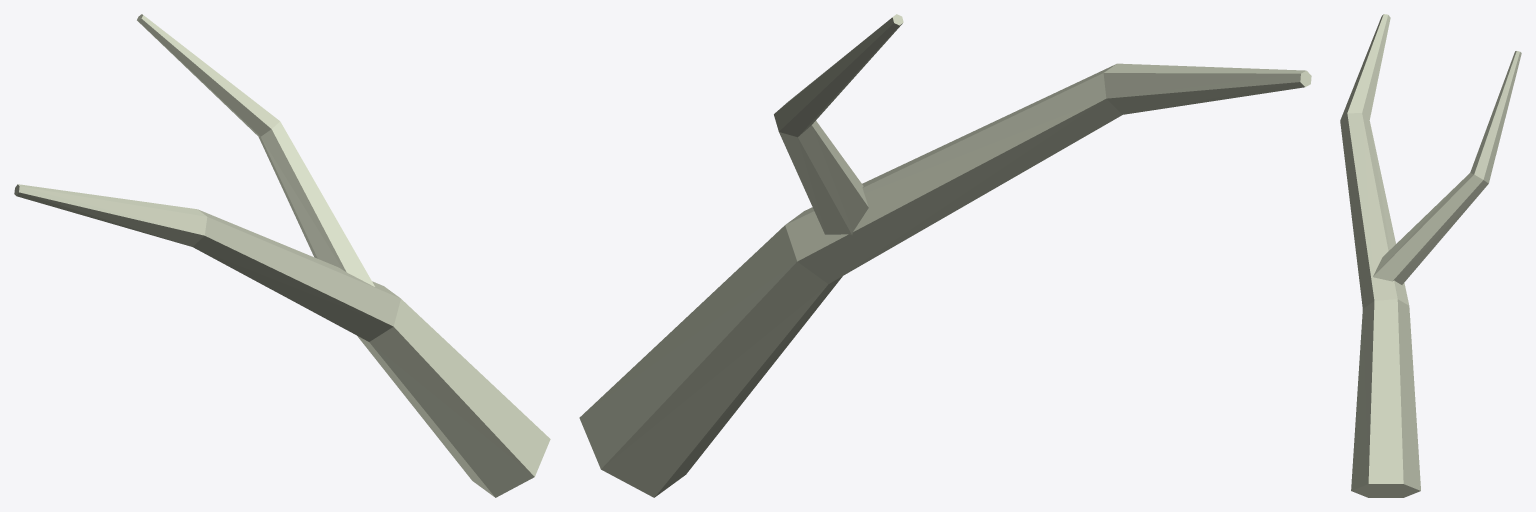
File: N18_Birch_Branch.fbx
3 views of the same model, side by side, from view 1: azimuth 30°, elevation 25°; view 2: azimuth 150°, elevation 25°; view 3: azimuth 270°, elevation 25° (orthographic). The views are drawn at different scales.
Visible parts, largest first — view 1: N18_Birch_Branch; view 2: N18_Birch_Branch; view 3: N18_Birch_Branch.
Boxes of the visible parts, box(x1,y1,x2,y2) form: N18_Birch_Branch: box(14, 14, 550, 497); N18_Birch_Branch: box(579, 14, 1311, 497); N18_Birch_Branch: box(1340, 14, 1521, 497).
Size of the model in its own units: 1.17 by 1 by 0.4666.
1 material, 1 textured.
